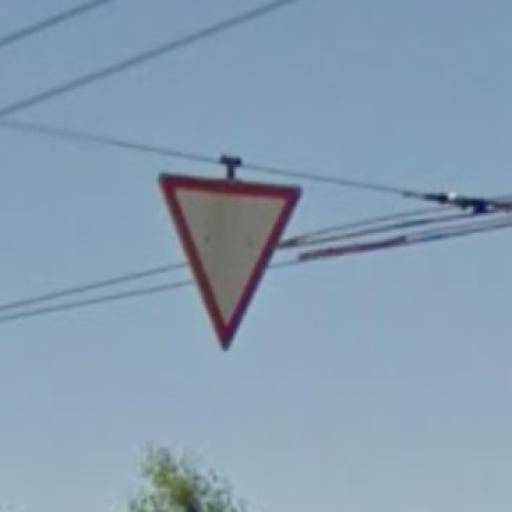traffic_sign: (158, 171, 303, 352)
